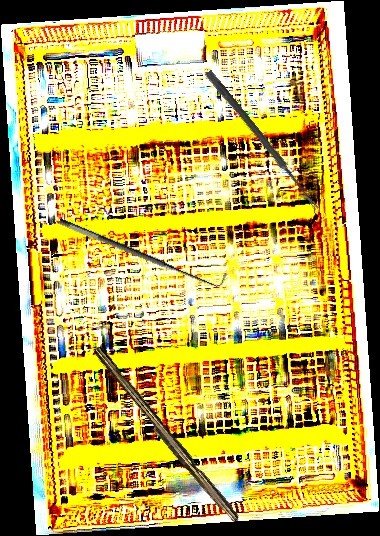Hook Surgical: (57, 205, 229, 295)
Scalpel Handle: (87, 344, 244, 527)
Surgical Spoon: (203, 69, 322, 212)
